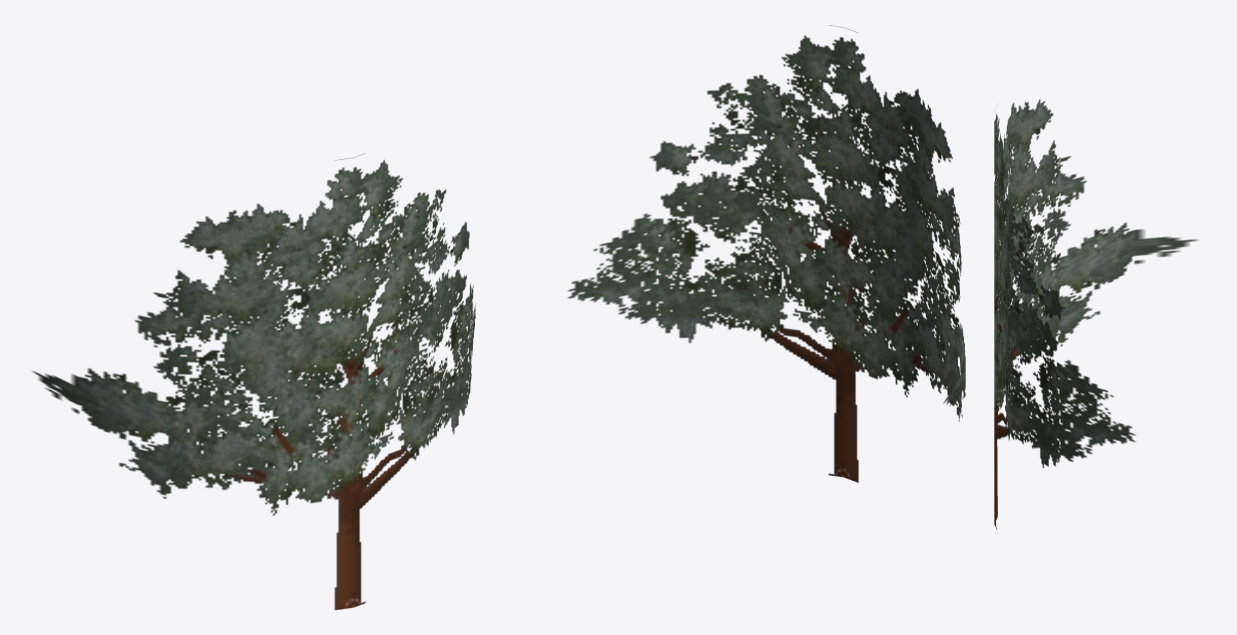
Rendered from treeLP3.glb.
3 renders of one model, left to right at view 1: azimuth 30°, elevation 25°; view 2: azimuth 150°, elevation 25°; view 3: azimuth 270°, elevation 25°, orthographic. The views are drawn at different scales.
Parts seen in each view (by area): view 1: tree; view 2: tree; view 3: tree.
Boxes of the visible parts, x1=… form: tree: x1=32, y1=153, x2=475, y2=610; tree: x1=568, y1=25, x2=965, y2=482; tree: x1=994, y1=99, x2=1197, y2=529.
Bounding box in the file's own units: 14 × 14 × 7.
1 material, 1 textured.
